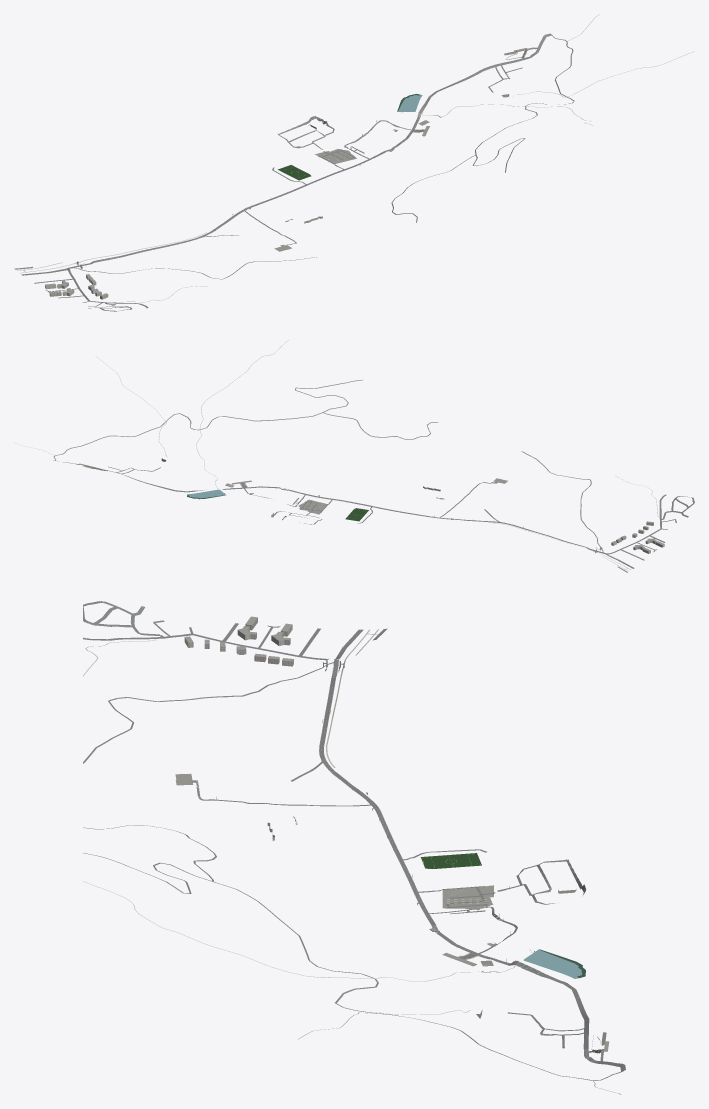
The picture shows the model from 3 angles, top to bottom: view 1: azimuth 30°, elevation 25°; view 2: azimuth 150°, elevation 25°; view 3: azimuth 270°, elevation 25°; orthographic projection. The views are drawn at different scales.
Visible parts, largest first — view 1: asphalt, walk, paving; view 2: asphalt, walk, paving; view 3: asphalt, paving, walk, lake, field.
Part boxes in pixels (x1,y1,x2,y2): asphalt: (14, 33, 574, 311); walk: (17, 14, 694, 302); paving: (274, 48, 527, 251); asphalt: (53, 379, 694, 572); walk: (14, 340, 659, 571); paving: (83, 465, 507, 514); asphalt: (83, 601, 625, 1080); paving: (175, 773, 609, 1052); walk: (83, 629, 620, 1094); lake: (523, 949, 581, 978); field: (420, 853, 481, 868).
Size of the model in its own units: 2108 by 276 by 888.
